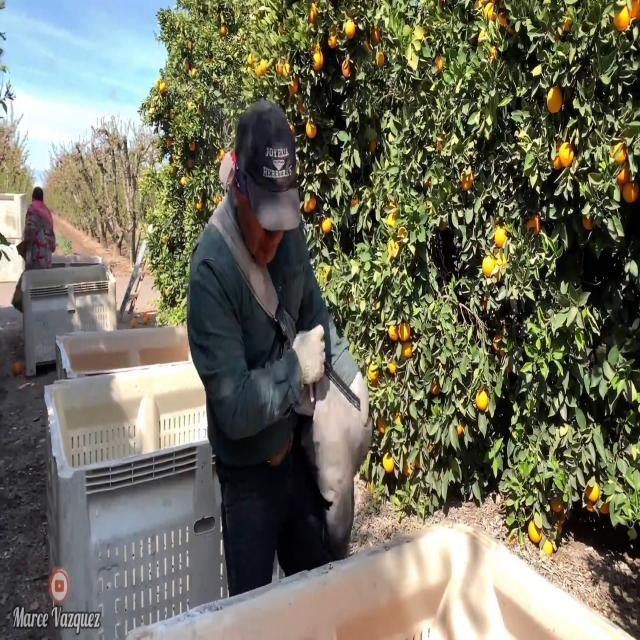Jeruk Sudah Matang: (544, 82, 564, 115), (555, 138, 577, 168), (342, 15, 358, 39), (302, 118, 320, 138), (312, 49, 326, 71)
